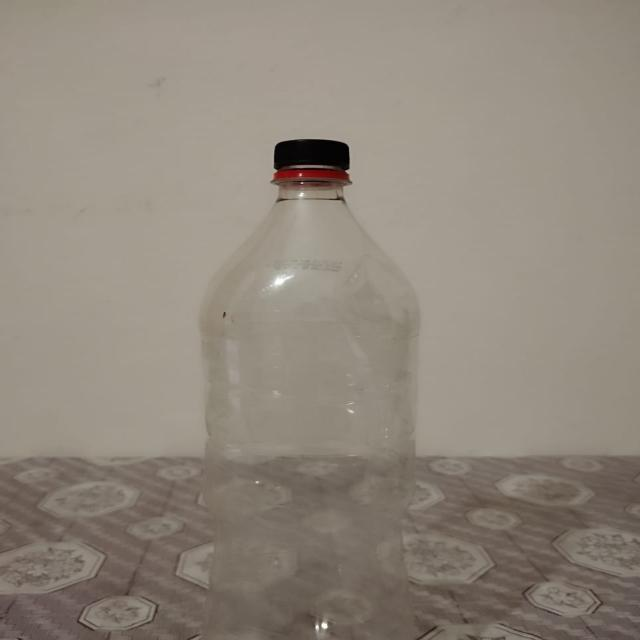bottle: (200, 138, 420, 640)
cap: (273, 140, 349, 184)
